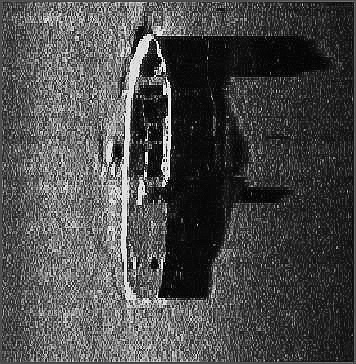ship: (118, 28, 176, 310)
